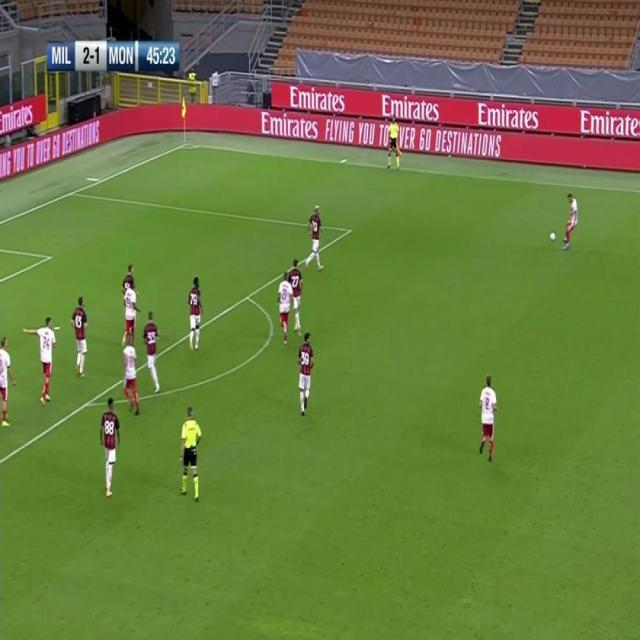ball: (548, 228, 557, 244)
player: (25, 314, 59, 408), (178, 403, 202, 503), (100, 396, 122, 501), (476, 373, 498, 464), (296, 330, 315, 420), (143, 312, 163, 395), (70, 295, 89, 382), (304, 203, 326, 276), (122, 340, 141, 416), (0, 335, 15, 429), (187, 275, 204, 355), (122, 276, 140, 344), (276, 272, 292, 345), (561, 191, 580, 251), (290, 259, 304, 330), (123, 261, 139, 289)
referee: (385, 116, 402, 174)
